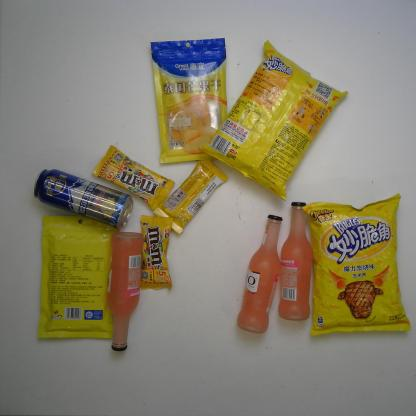Alcohol: (235, 214, 284, 333), (33, 168, 133, 226), (105, 228, 143, 353), (280, 201, 314, 322)
Chocolate: (92, 144, 174, 214), (152, 157, 226, 234), (137, 211, 176, 289)
Dried Fruit: (40, 211, 124, 341), (148, 37, 231, 164)
Puffed Food: (200, 38, 348, 200), (302, 192, 412, 338)
